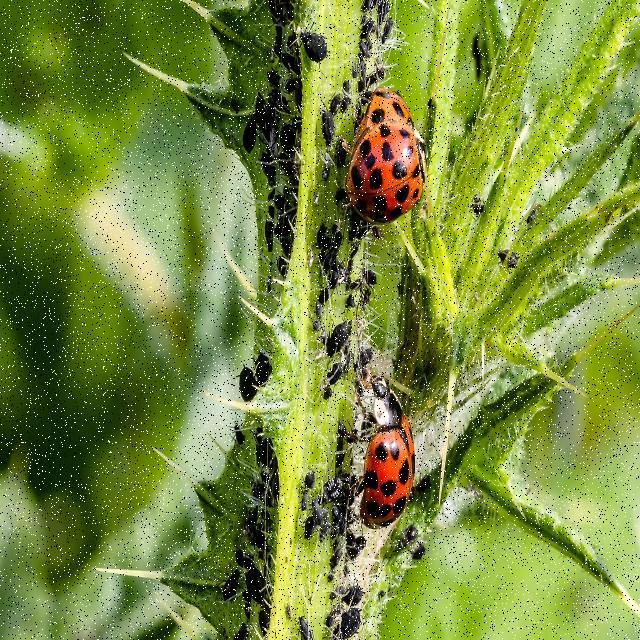Aphids: (241, 94, 328, 313), (312, 222, 364, 422), (242, 423, 270, 618), (223, 350, 276, 408), (282, 23, 337, 70)
